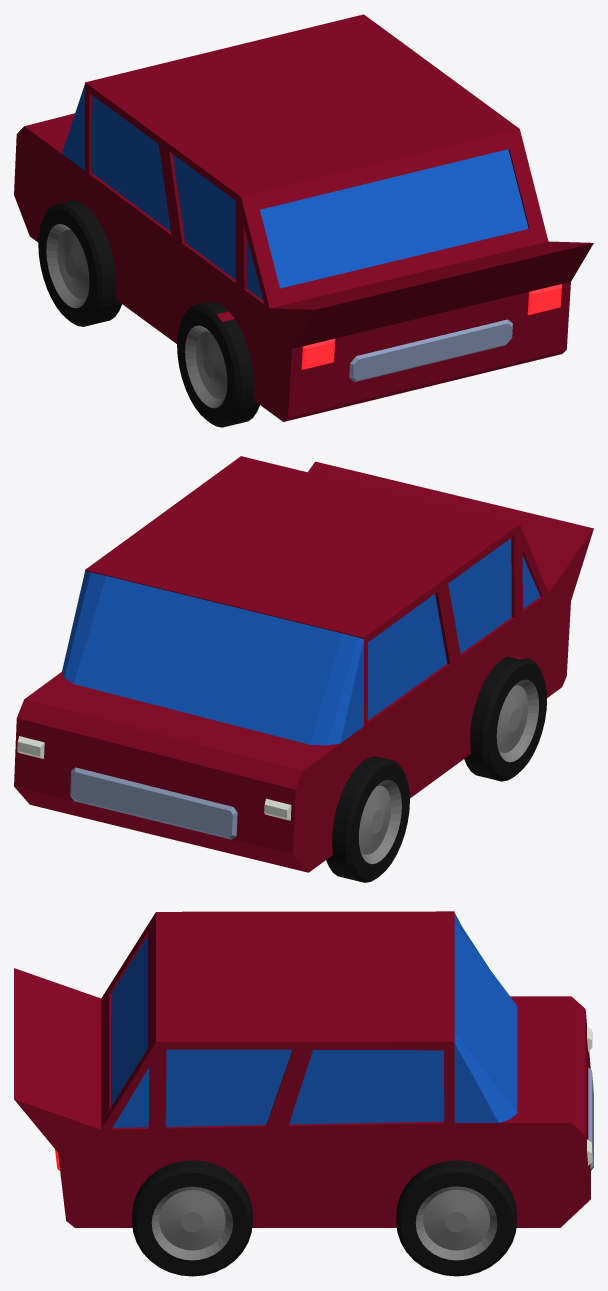
The model's file is carcool (1).fbx.
The picture shows the model from 3 angles, top to bottom: view 1: azimuth 30°, elevation 25°; view 2: azimuth 150°, elevation 25°; view 3: azimuth 270°, elevation 25°; orthographic projection. The views are drawn at different scales.
Parts seen in each view (by area): view 1: Cube; view 2: Cube; view 3: Cube.
Part boxes in pixels (<box>): Cube: <box>14,14,593,427</box>; Cube: <box>14,456,593,882</box>; Cube: <box>14,911,593,1276</box>.
Bounding box in the file's own units: 225 × 163 × 376.
